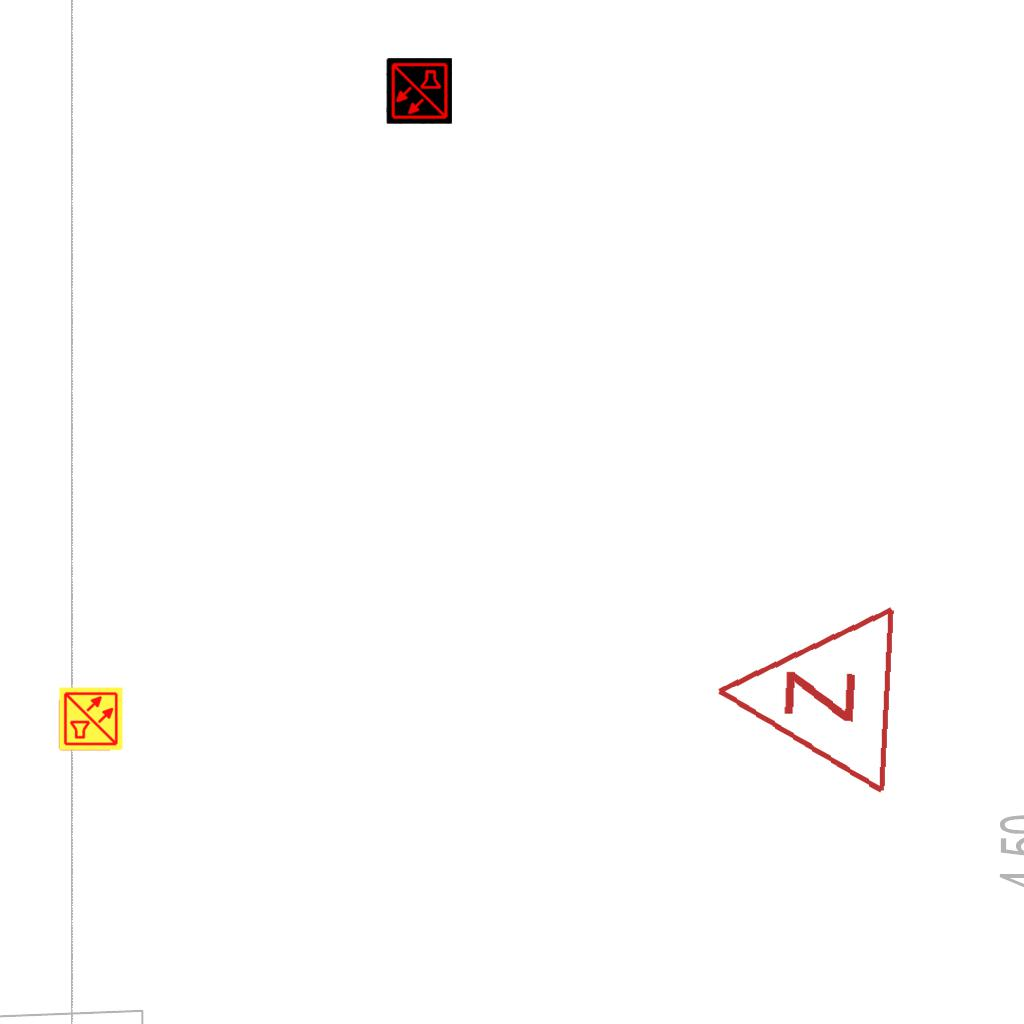OKW_Multisensormelder_(Kombination_optischer_Rauch-Kahlenmonoxid_Waerme-Melder): (386, 58, 452, 124), (58, 686, 124, 752)
Zimmersignalleuchte: (699, 594, 909, 802)
